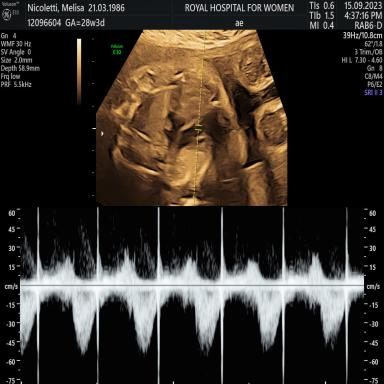Ultrasound-Waves: (24, 208, 362, 384)
